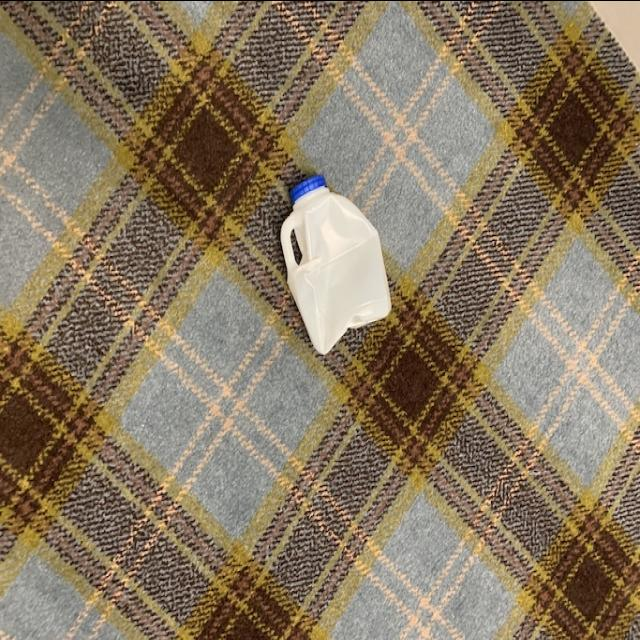litter: (281, 166, 395, 362)
